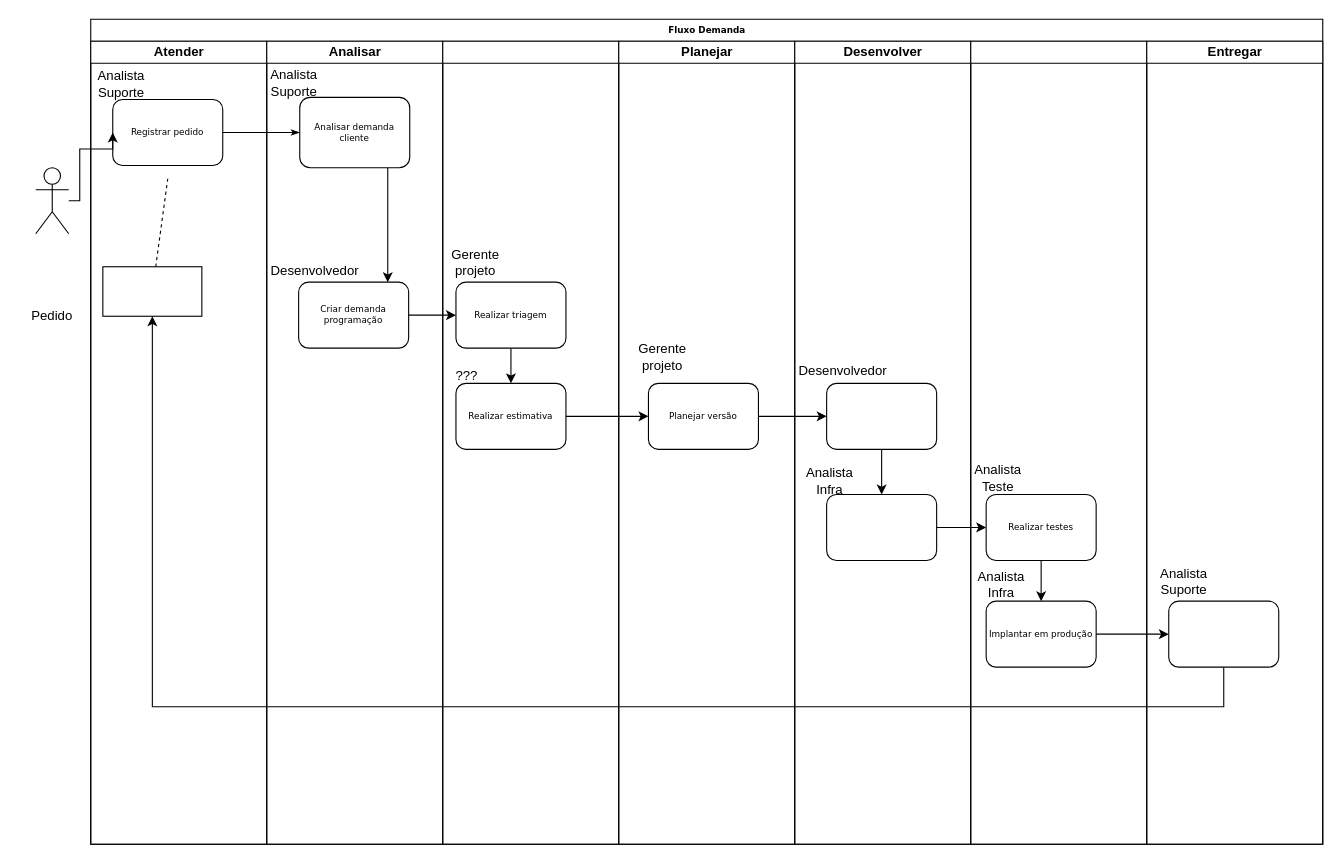
The diagram is 1342 pixels wide and 864 high, and some of its shapes have lost their labels. The box of each missing label's shape, as (x1, y1, x2, y2) in pixels:
Ciente: (35, 167, 69, 234)
Desenvolver solução: (826, 382, 937, 449)
Implantar em teste: (826, 493, 937, 560)
Notificar implantação: (1168, 600, 1279, 667)
Refinar: (442, 40, 619, 844)
Testar: (970, 40, 1147, 844)
Ticket (suporte): (102, 266, 202, 316)
